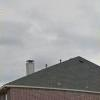Chimney: (19, 52, 41, 82)
